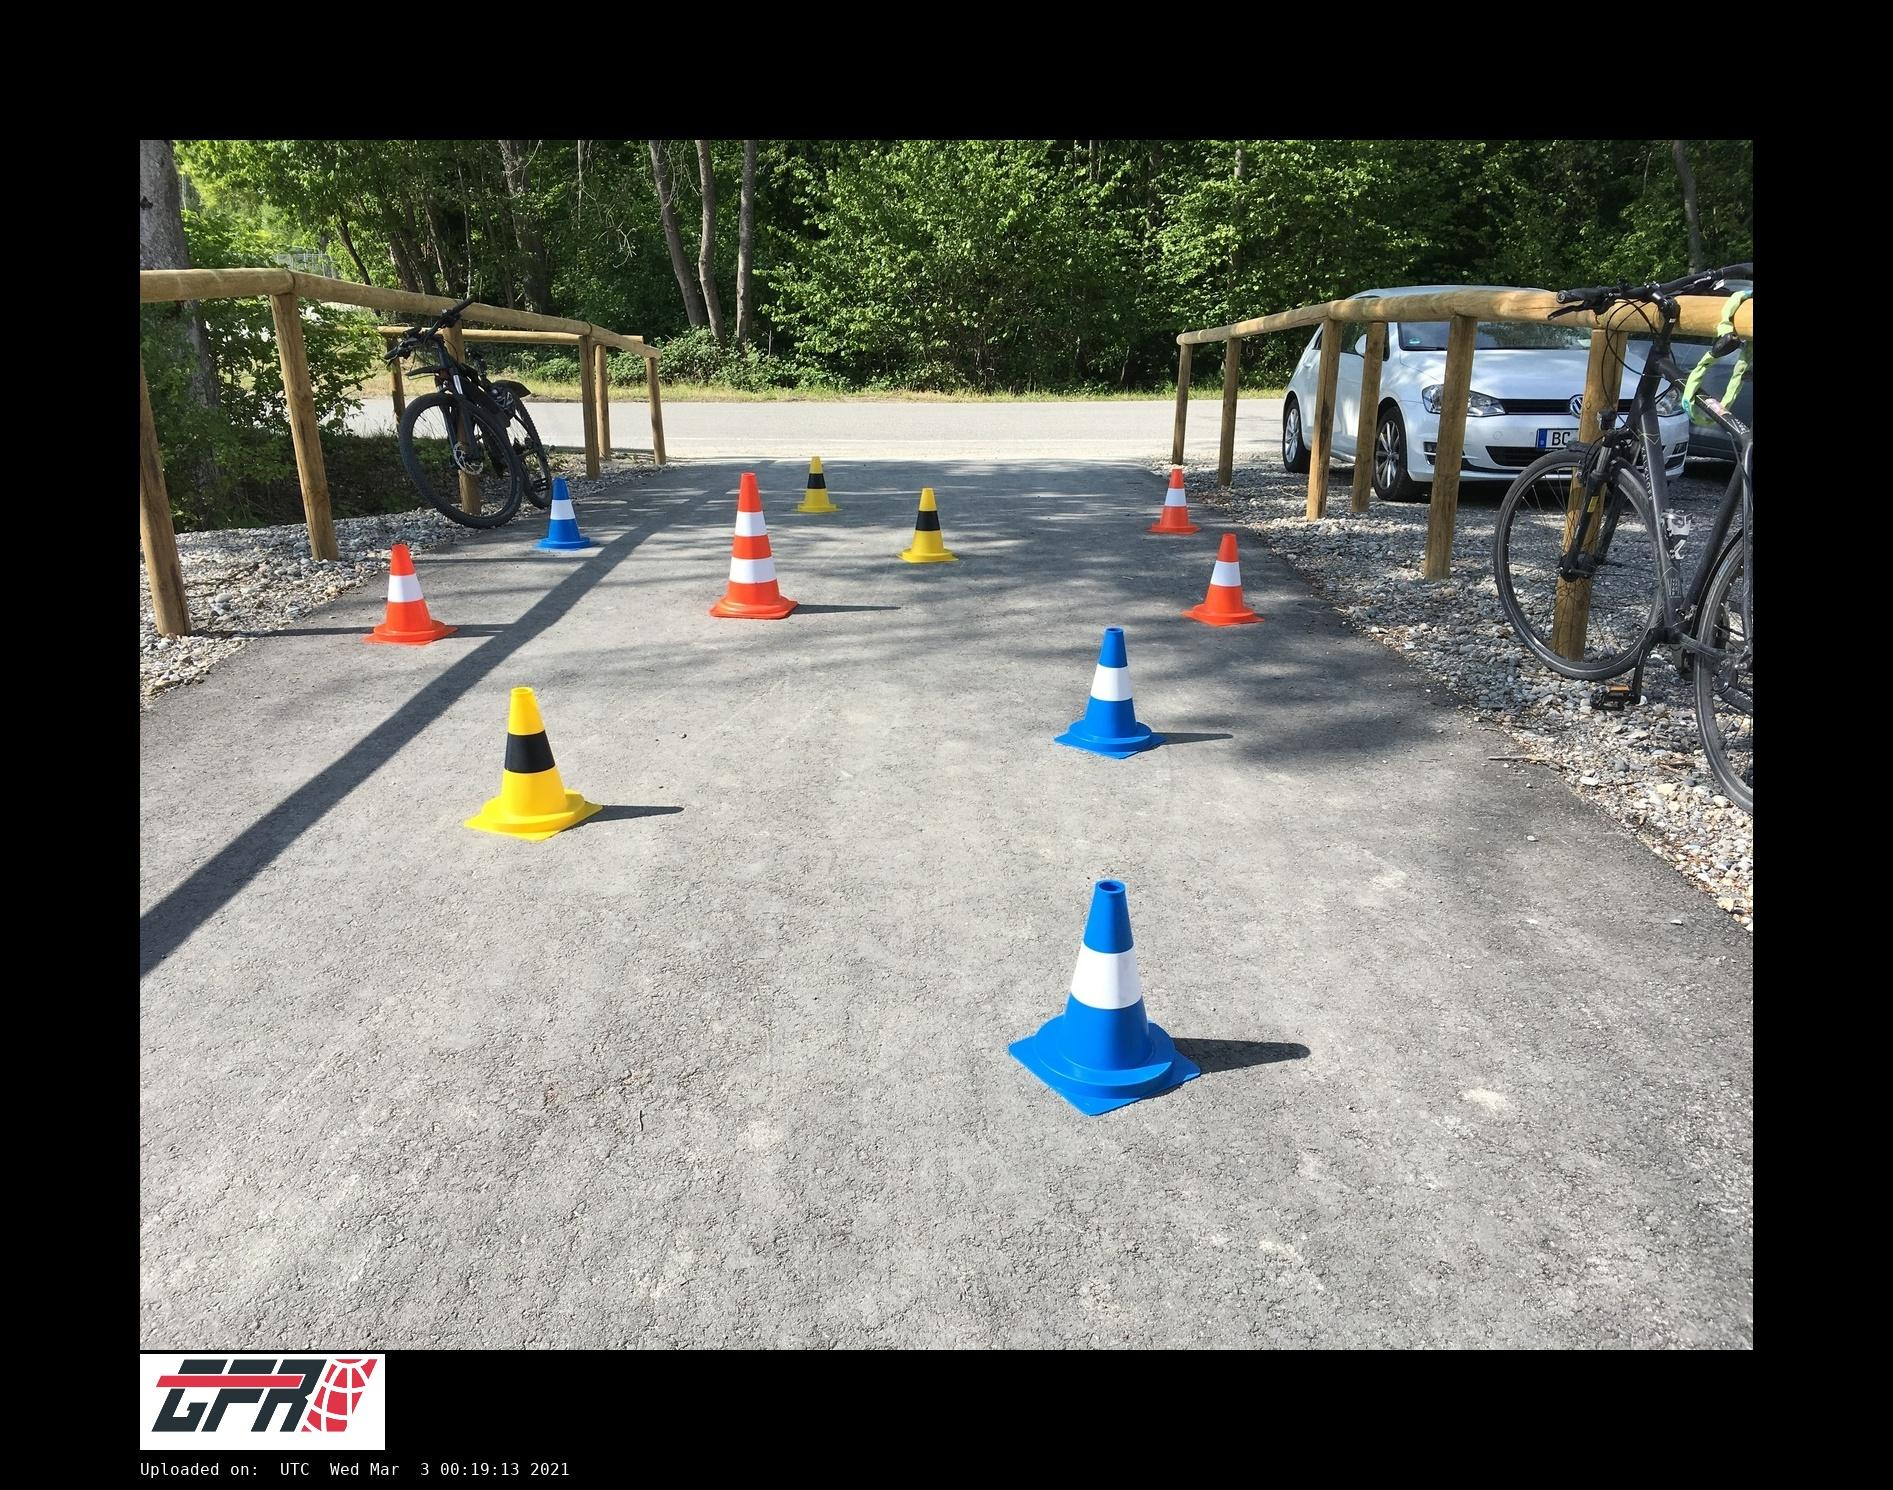blue_cone: (1006, 880, 1202, 1117), (1054, 628, 1168, 759), (533, 478, 598, 551)
large_orange_cone: (710, 473, 797, 618)
orange_cone: (364, 545, 456, 645), (1183, 535, 1265, 627), (1148, 469, 1202, 535)
yellow_cone: (464, 687, 601, 840), (896, 488, 959, 564), (797, 458, 839, 512)
